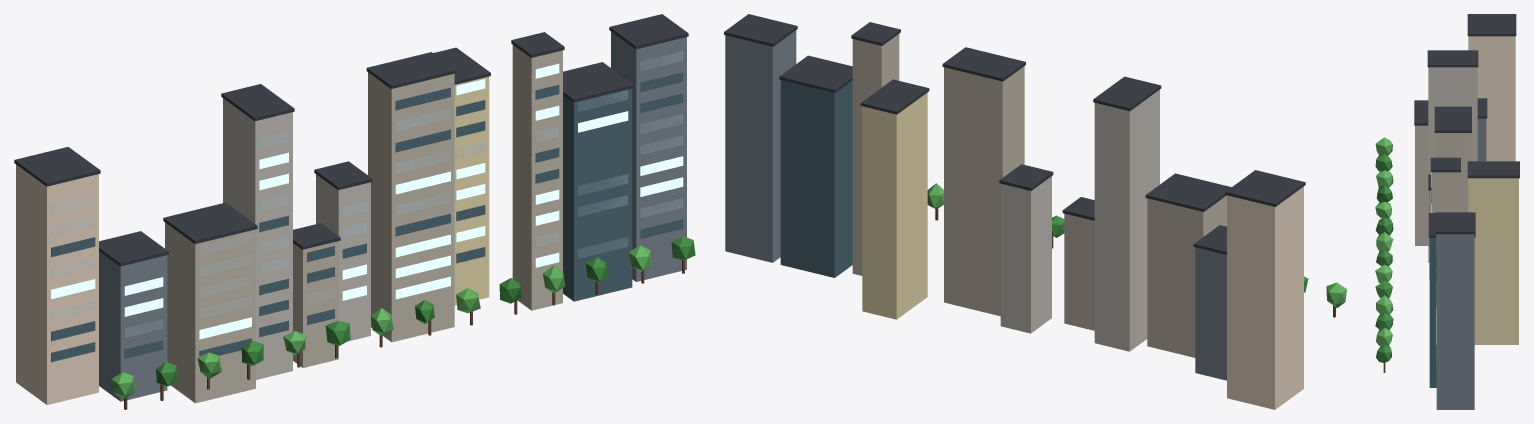
Rendered from Skyline.fbx.
The picture shows the model from 3 angles, left to right: view 1: azimuth 30°, elevation 25°; view 2: azimuth 150°, elevation 25°; view 3: azimuth 270°, elevation 25°; orthographic projection. The views are drawn at different scales.
Visible parts, largest first — view 1: SkylineBlocks; view 2: SkylineBlocks; view 3: SkylineBlocks, Tree.006, Tree.010, Tree.012, Tree.002, Tree.005, Tree.001, Tree, Tree.011, Tree.008, Tree.004, Tree.013 (+3 smaller).
Boxes of the visible parts, left/top/right/bottom form: SkylineBlocks: left=14, top=14, right=688, bottom=409; SkylineBlocks: left=724, top=14, right=1335, bottom=409; SkylineBlocks: left=1383, top=14, right=1519, bottom=409; Tree.006: left=1376, top=232, right=1393, bottom=251; Tree.010: left=1376, top=295, right=1393, bottom=314; Tree.012: left=1376, top=327, right=1392, bottom=346; Tree.002: left=1376, top=170, right=1393, bottom=187; Tree.005: left=1375, top=218, right=1393, bottom=235; Tree.001: left=1375, top=153, right=1392, bottom=171; Tree: left=1375, top=137, right=1392, bottom=155; Tree.011: left=1375, top=313, right=1393, bottom=329; Tree.008: left=1375, top=264, right=1392, bottom=283; Tree.004: left=1375, top=201, right=1391, bottom=218; Tree.013: left=1376, top=345, right=1391, bottom=362.
Size of the model in its own units: 61.88 by 25.02 by 16.56.
